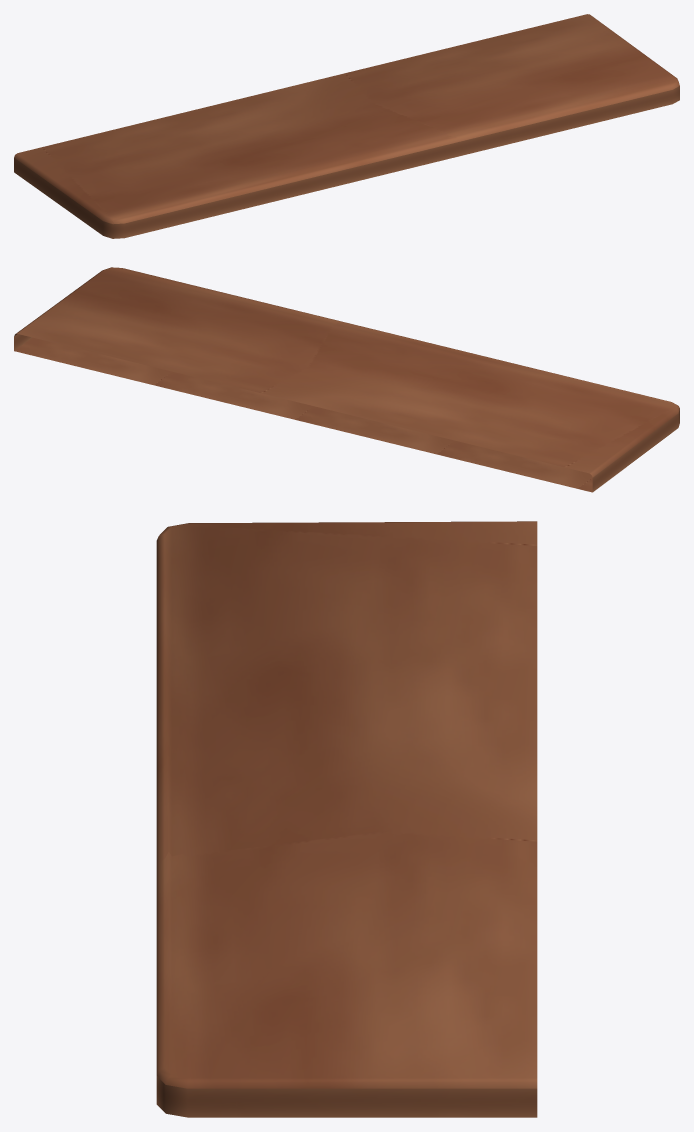
Rendered from wood_trim_wallboard_.fbx.
The picture shows the model from 3 angles, top to bottom: view 1: azimuth 30°, elevation 25°; view 2: azimuth 150°, elevation 25°; view 3: azimuth 270°, elevation 25°; orthographic projection. The views are drawn at different scales.
Visible parts, largest first — view 1: 1.005; view 2: 1.005; view 3: 1.005.
Boxes of the visible parts, box(x1,y1,x2,y2) form: 1.005: box(14, 14, 679, 238); 1.005: box(14, 267, 679, 492); 1.005: box(156, 521, 537, 1117).
Bounding box in the file's own units: 200 × 6.06 × 57.06.
